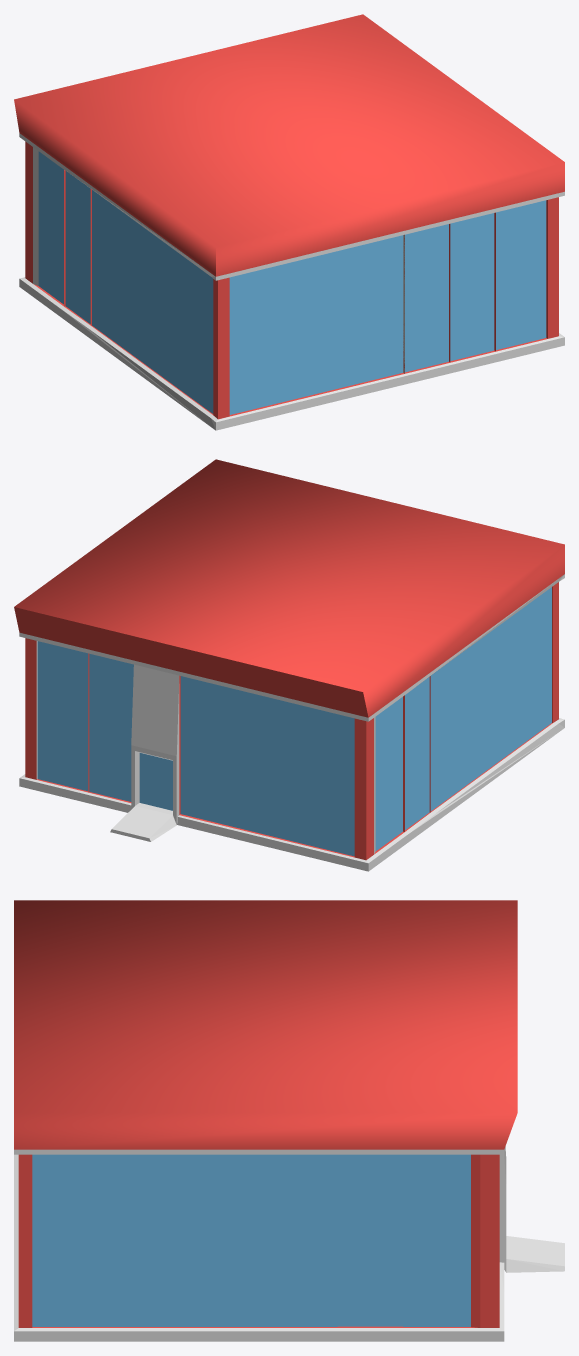
Rendered from Shop8x8x4Red.fbx.
The picture shows the model from 3 angles, top to bottom: view 1: azimuth 30°, elevation 25°; view 2: azimuth 150°, elevation 25°; view 3: azimuth 270°, elevation 25°; orthographic projection. The views are drawn at different scales.
Visible parts, largest first — view 1: Shop.001; view 2: Shop.001; view 3: Shop.001.
Part boxes in pixels (x1=…): Shop.001: x1=14, y1=14, x2=564, y2=430; Shop.001: x1=14, y1=459, x2=564, y2=871; Shop.001: x1=14, y1=900, x2=564, y2=1341.
Bounding box in the file's own units: 7.96 × 4 × 8.72.
Materials: 1 (1 with a texture image).
